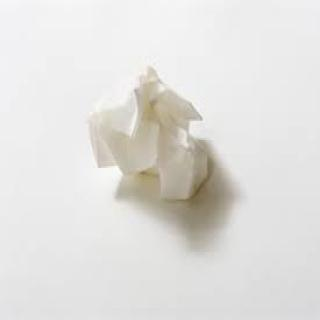PAPER: (85, 65, 212, 201)
